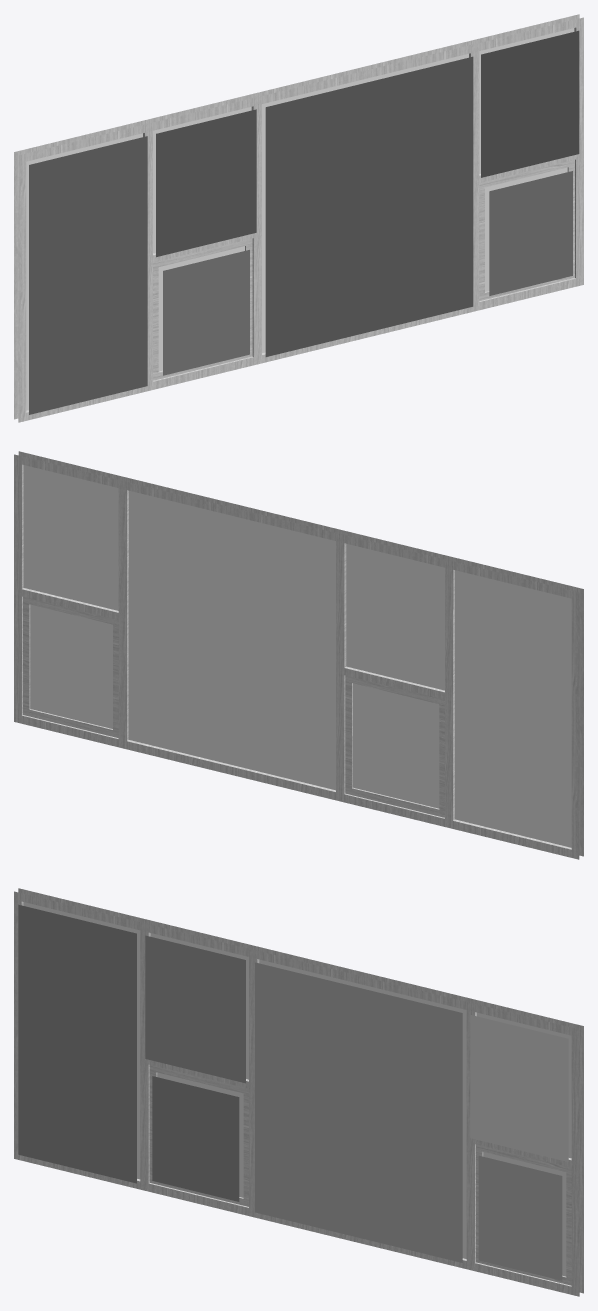
Rendered from Window_4657b49f.obj.
The picture shows the model from 3 angles, top to bottom: view 1: azimuth 30°, elevation 25°; view 2: azimuth 150°, elevation 25°; view 3: azimuth 330°, elevation 25°; orthographic projection.
Parts seen in each view (by area): view 1: QuadDecalSpawnPlane_(9)_88f9e9ac, QuadDecalSpawnPlane_(6)_d3d20dbf, FP320:Windows_1890cc88, QuadDecalSpawnPlane_(7)_bd415f38, QuadDecalSpawnPlane_(10)_8901b1a9, QuadDecalSpawnPlane_(8)_53c9d60c, QuadDecalSpawnPlane_(11)_651063b0, FP320:WindowPane1_458aecf1; view 2: FP320:WindowPane1_458aecf1, FP320:Windows_1890cc88; view 3: QuadDecalSpawnPlane_(9)_88f9e9ac, QuadDecalSpawnPlane_(6)_d3d20dbf, FP320:Windows_1890cc88, QuadDecalSpawnPlane_(7)_bd415f38, QuadDecalSpawnPlane_(10)_8901b1a9, QuadDecalSpawnPlane_(8)_53c9d60c, QuadDecalSpawnPlane_(11)_651063b0, FP320:WindowPane1_458aecf1.
Boxes of the visible parts, left/top/right/bottom form: QuadDecalSpawnPlane_(9)_88f9e9ac: left=265, top=56, right=473, bottom=356; QuadDecalSpawnPlane_(6)_d3d20dbf: left=29, top=136, right=147, bottom=414; FP320:Windows_1890cc88: left=14, top=14, right=583, bottom=422; QuadDecalSpawnPlane_(7)_bd415f38: left=156, top=109, right=256, bottom=257; QuadDecalSpawnPlane_(10)_8901b1a9: left=481, top=30, right=579, bottom=177; QuadDecalSpawnPlane_(8)_53c9d60c: left=163, top=249, right=249, bottom=375; QuadDecalSpawnPlane_(11)_651063b0: left=489, top=171, right=572, bottom=295; FP320:WindowPane1_458aecf1: left=26, top=28, right=574, bottom=410; FP320:WindowPane1_458aecf1: left=23, top=465, right=571, bottom=847; FP320:Windows_1890cc88: left=14, top=451, right=583, bottom=859; QuadDecalSpawnPlane_(9)_88f9e9ac: left=255, top=962, right=462, bottom=1262; QuadDecalSpawnPlane_(6)_d3d20dbf: left=18, top=904, right=136, bottom=1183; FP320:Windows_1890cc88: left=14, top=888, right=583, bottom=1296; QuadDecalSpawnPlane_(7)_bd415f38: left=145, top=935, right=245, bottom=1083; QuadDecalSpawnPlane_(10)_8901b1a9: left=470, top=1015, right=568, bottom=1161; QuadDecalSpawnPlane_(8)_53c9d60c: left=152, top=1076, right=239, bottom=1201; QuadDecalSpawnPlane_(11)_651063b0: left=478, top=1155, right=562, bottom=1280; FP320:WindowPane1_458aecf1: left=23, top=902, right=571, bottom=1276.
Size of the model in its own units: 2.6 by 1.18 by 0.0605.
